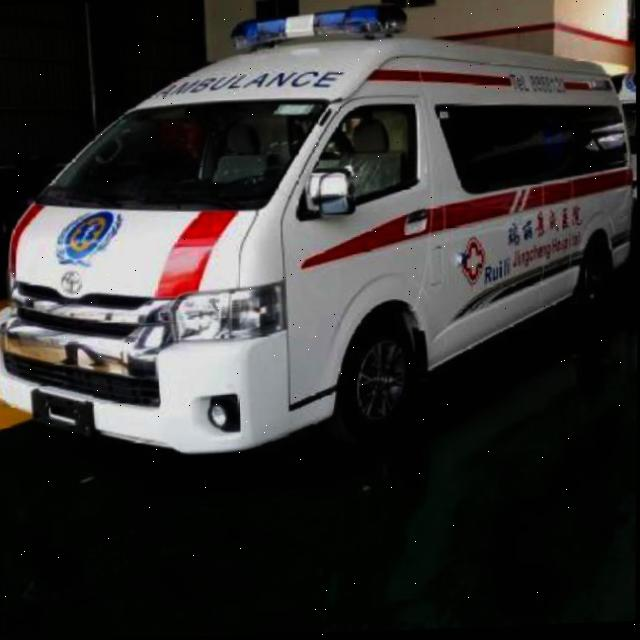emergency: (0, 0, 640, 467)
